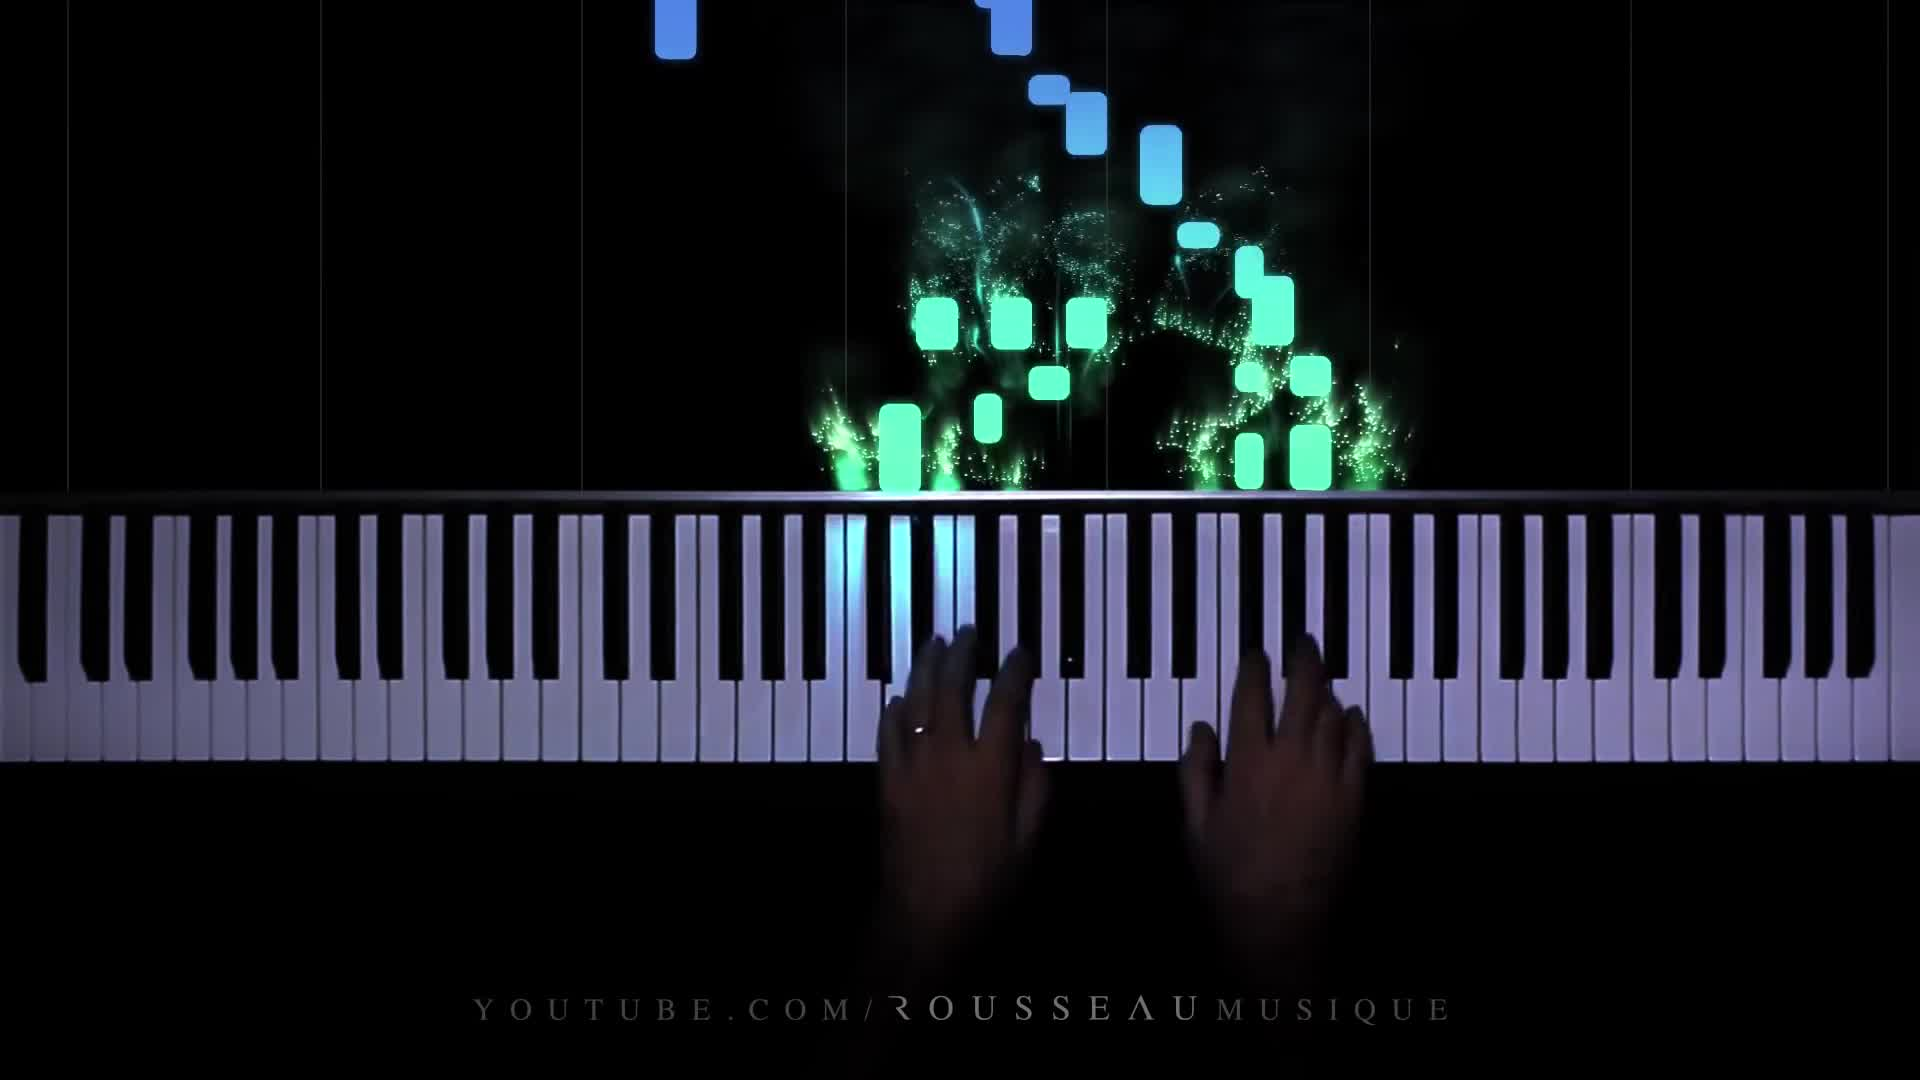left: (858, 621, 1054, 897)
right: (1174, 626, 1382, 920)
